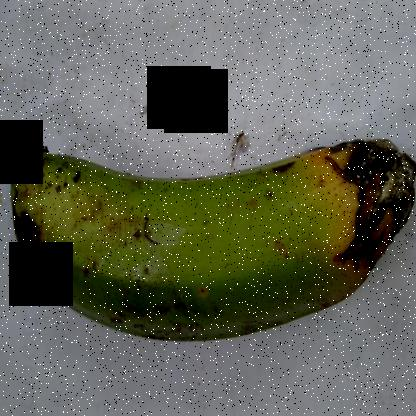unripe: (6, 115, 311, 358)
